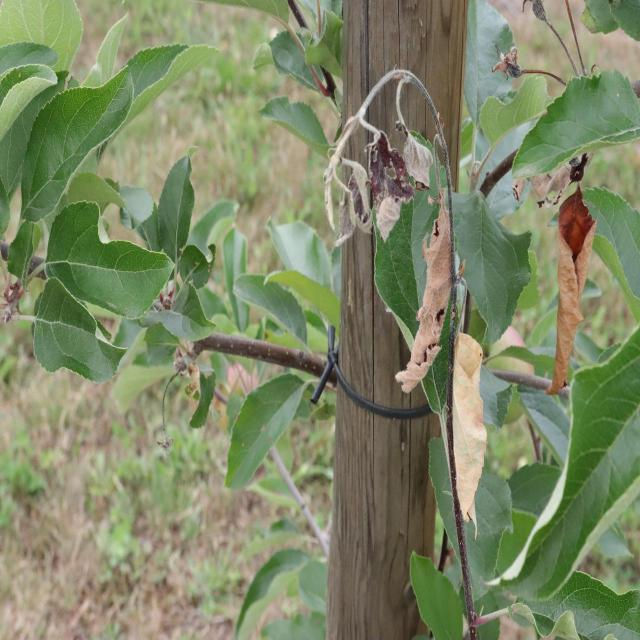-FireBlight-: (327, 61, 490, 526), (509, 172, 587, 394)
